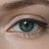eye: (20, 21, 35, 32)
